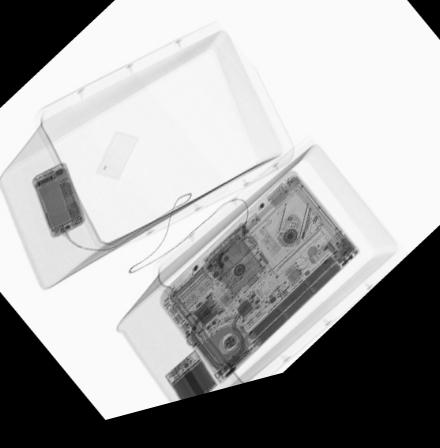Powerbank: (164, 359, 218, 410)
